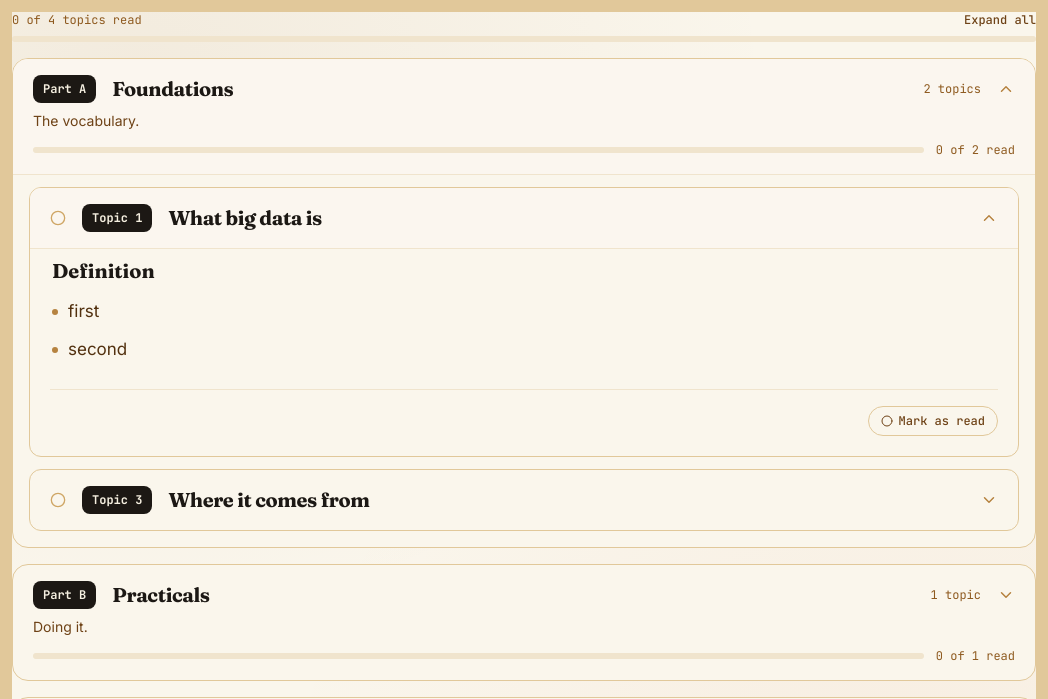
Test: grouping the notes by part › counts reading progress per part as well as for the whole course
Expected: the text "0 of 4 topics read" is shown, [12,12,142,28]
Expected: the button "Part A Foundations 2 topics The vocabulary. 0 of 2 read" is shown, [13,59,1035,174]
Note: The first topic of Part A is open by default, so there is one toggle.
Click the button "Mark as read". click: (933, 421)
box: [868,406,998,436]
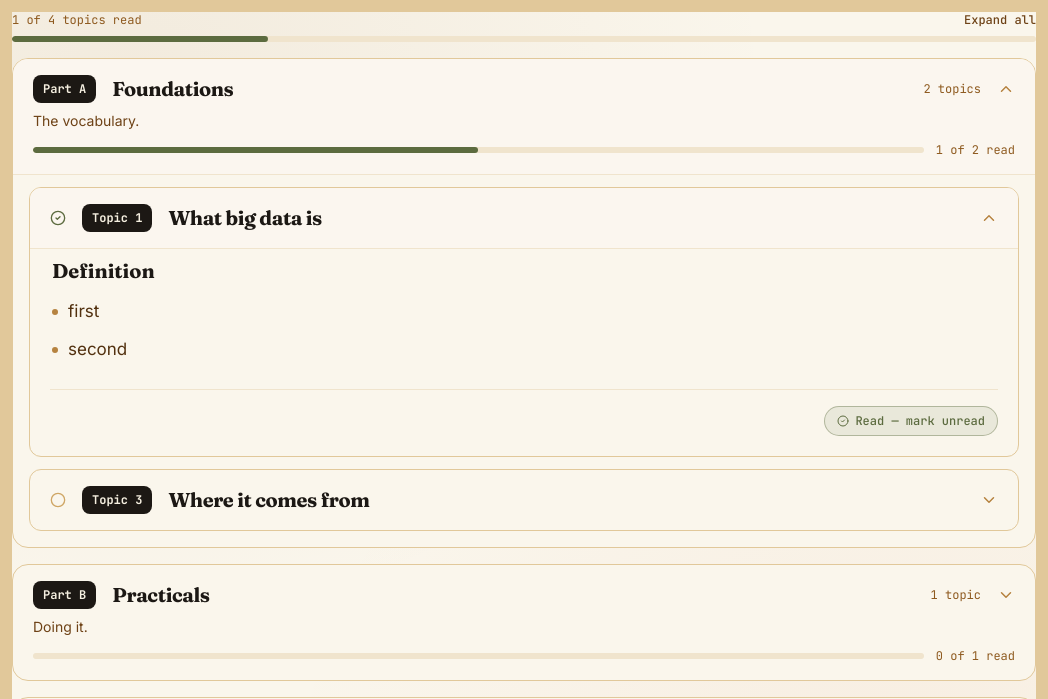
Expected: the button "Part B Practicals 1 topic Doing it. 0 of 1 read" is shown, [13,565,1035,680]
Expected: the text "1 of 4 topics read" is shown, [12,12,142,28]
Expected: the button "Part A Foundations 2 topics The vocabulary. 1 of 2 read" is shown, [13,59,1035,174]
